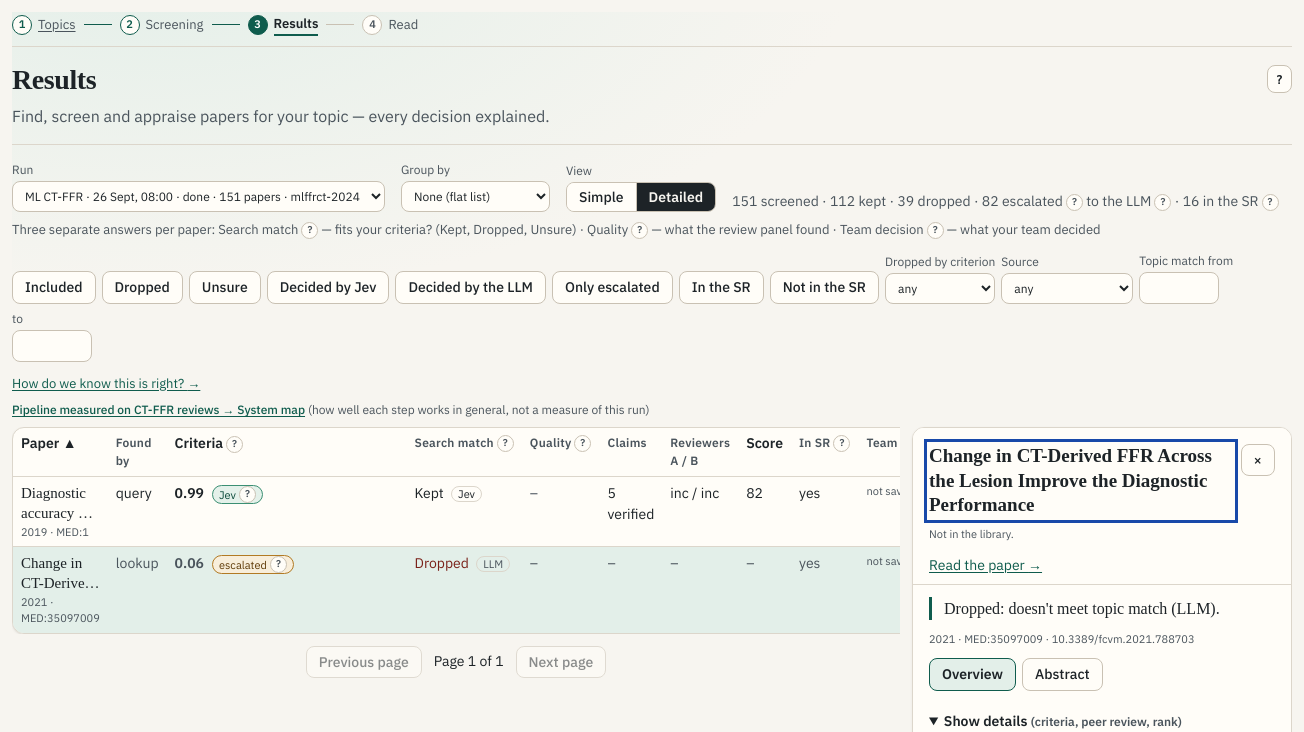
Test: paper drawer › shows the abstract on demand and never renders it as HTML
Expected: the heading "Change in CT-Derived FFR" is shown, [929,444,1233,518]
Click the button "Abstract" at (1062, 674), box [1022,658,1103,690]
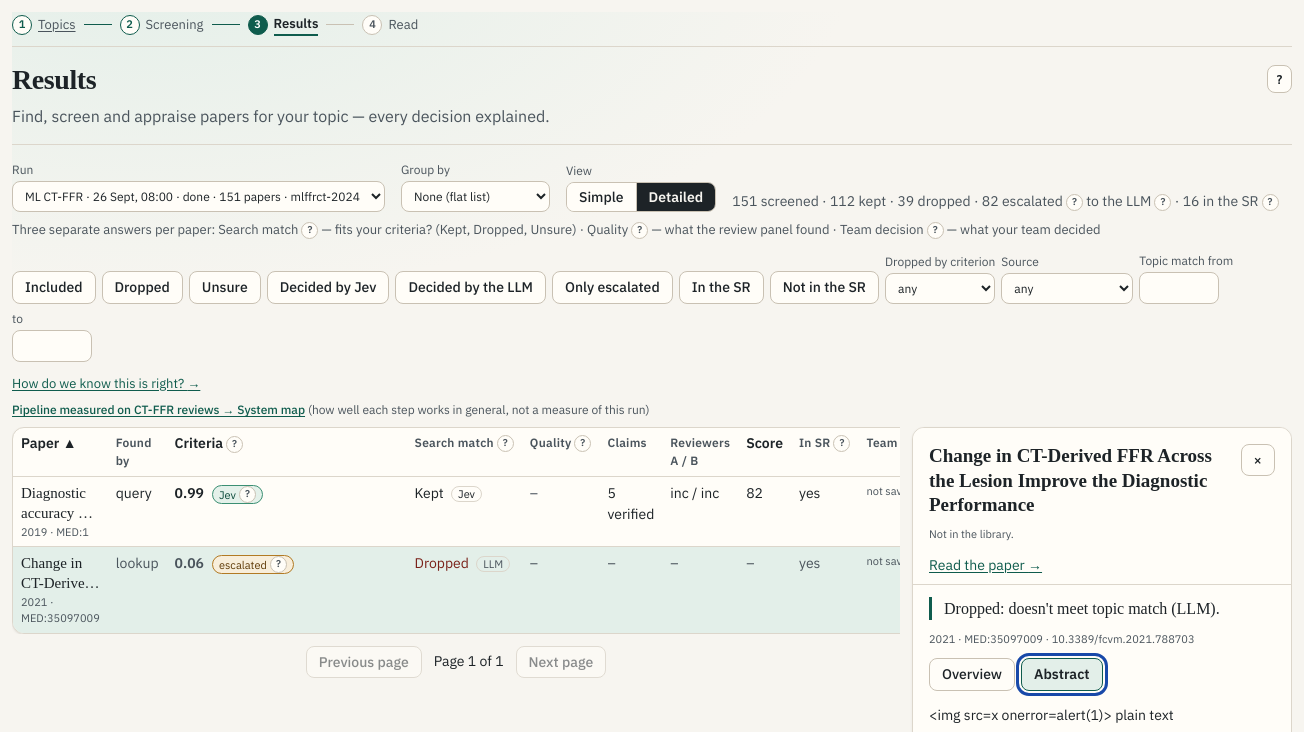
Result: the text "<img src=x onerror=alert(1)> plain text" is shown at [929,706,1174,724]
